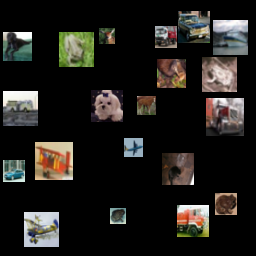airplane: (176, 200, 208, 232), (73, 163, 102, 192)
automobile: (92, 107, 130, 145), (72, 11, 110, 49), (59, 136, 78, 155)
bird: (122, 203, 154, 235), (115, 51, 144, 80), (167, 111, 193, 137)
cat: (209, 201, 247, 239), (45, 178, 71, 204)
deer: (18, 106, 56, 144), (58, 89, 90, 121), (122, 148, 144, 170)
frog: (184, 5, 222, 43), (133, 88, 165, 120), (112, 14, 138, 40)
ship: (182, 158, 214, 190), (39, 36, 61, 58)
